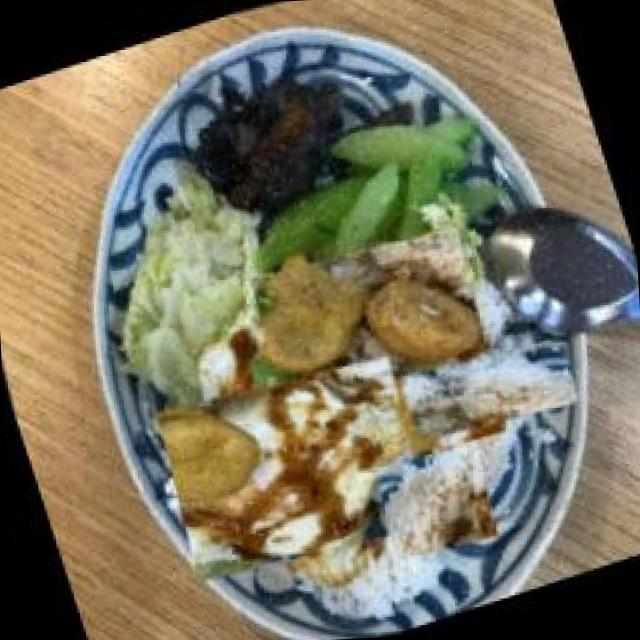chicken_nuggets: (215, 205, 520, 510)
chinese_cabbage: (84, 162, 284, 397)
fried_eggs: (150, 324, 434, 608)
rice: (408, 307, 570, 468), (364, 432, 506, 568)
